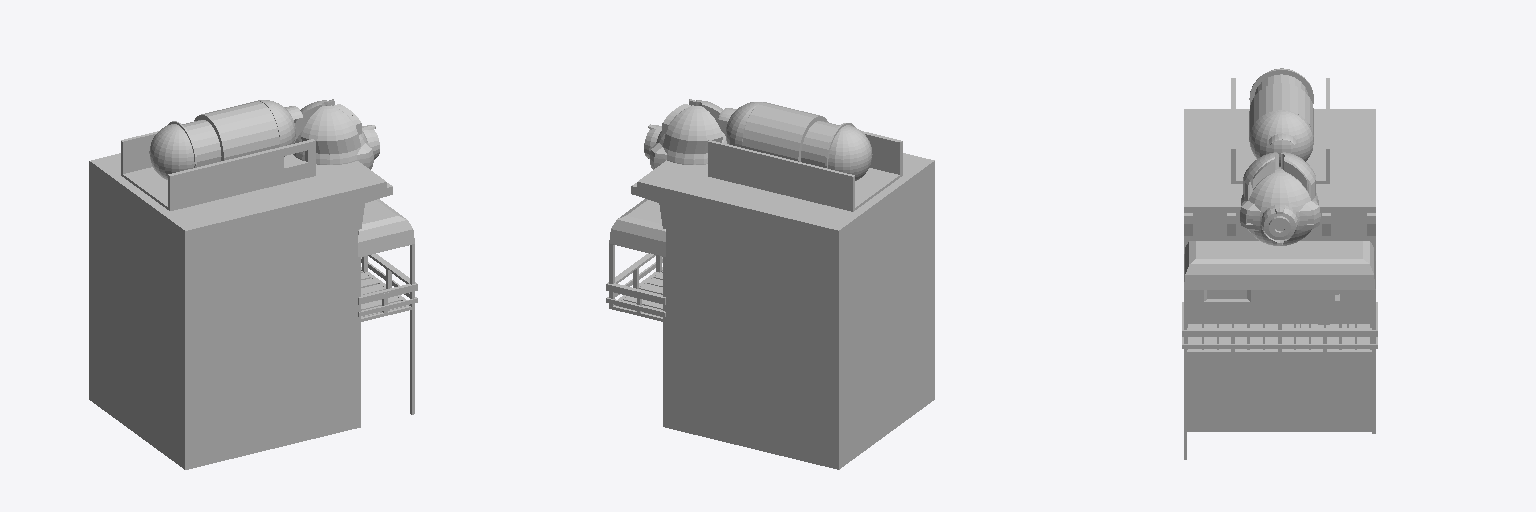
File: Building.obj
3 renders of one model, left to right at view 1: azimuth 30°, elevation 25°; view 2: azimuth 150°, elevation 25°; view 3: azimuth 270°, elevation 25°, orthographic.
Parts seen in each view (by area): view 1: Building2_Cylinder44; view 2: Building2_Cylinder44; view 3: Building2_Cylinder44.
Boxes of the visible parts, x1=… form: Building2_Cylinder44: x1=89, y1=99, x2=417, y2=469; Building2_Cylinder44: x1=606, y1=99, x2=934, y2=469; Building2_Cylinder44: x1=1182, y1=68, x2=1377, y2=459.
Size of the model in its own units: 6.57 by 7.94 by 4.7.